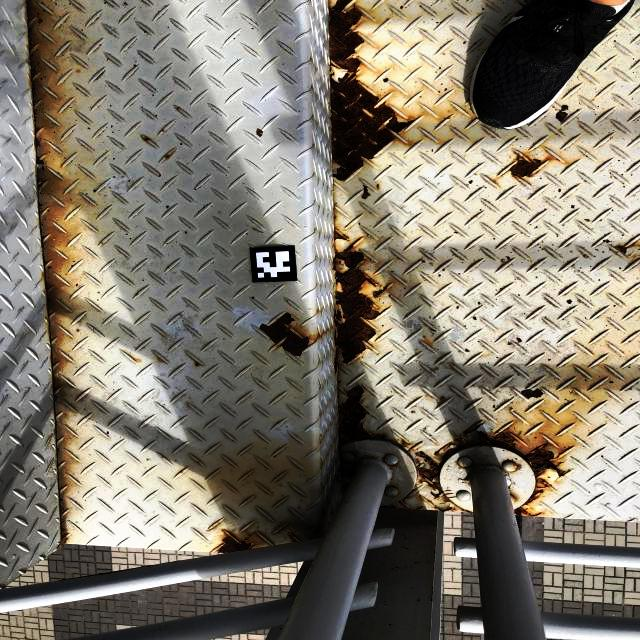Corrosion: (329, 0, 411, 180), (333, 229, 393, 376), (514, 444, 570, 517), (415, 451, 473, 513), (433, 424, 518, 462), (260, 313, 310, 356), (339, 386, 372, 444), (508, 152, 552, 180), (215, 535, 254, 554), (613, 240, 639, 255), (399, 438, 415, 453), (372, 434, 389, 442), (163, 149, 176, 159), (379, 506, 397, 509), (143, 137, 151, 142), (330, 508, 335, 515)
